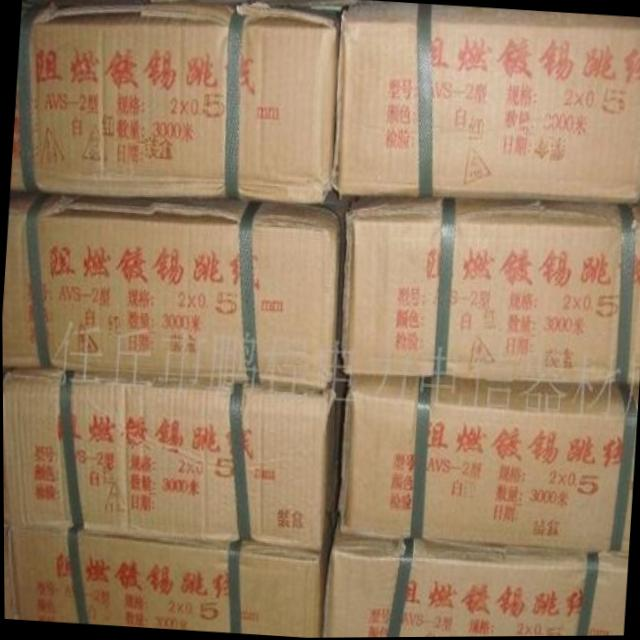box: (2, 190, 353, 389), (2, 353, 346, 550), (11, 0, 341, 203), (330, 1, 640, 206), (339, 198, 640, 384), (337, 375, 638, 554), (12, 498, 337, 638), (321, 520, 627, 638)
